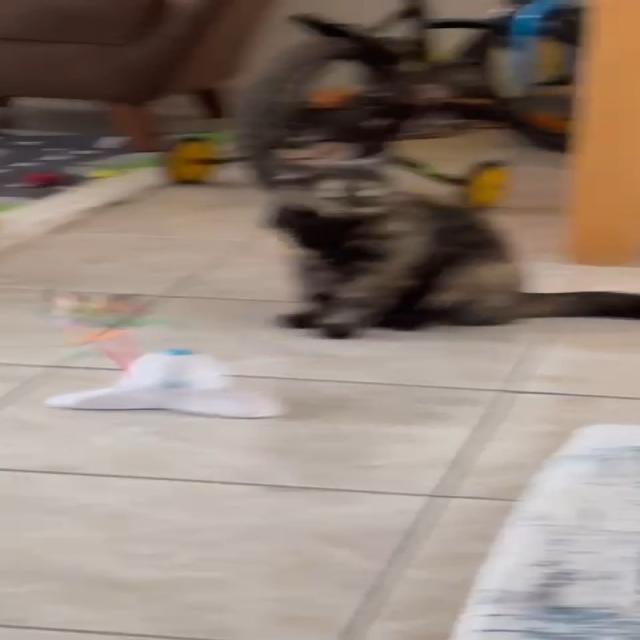authorized: (268, 192, 637, 339)
